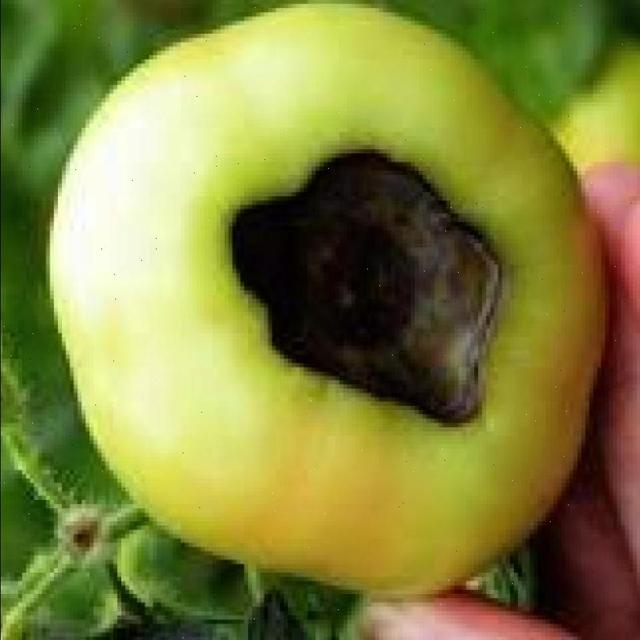Blossom End Rot Fruit: (145, 104, 338, 289)
